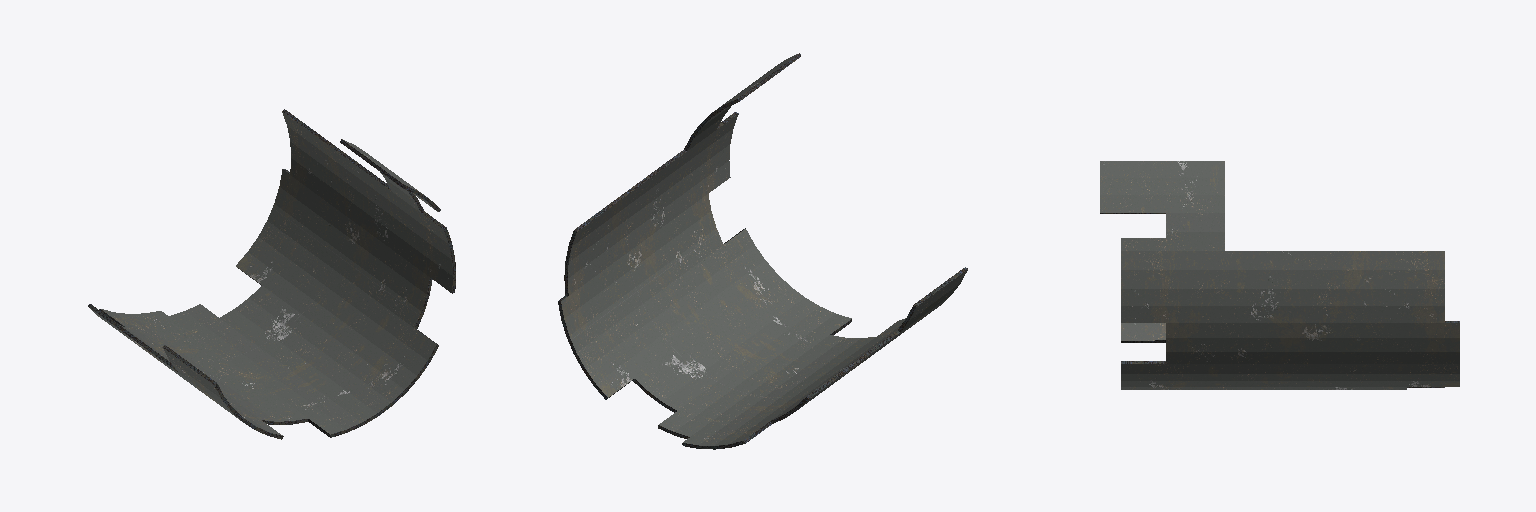
3 views of the same model, side by side, from view 1: azimuth 30°, elevation 25°; view 2: azimuth 150°, elevation 25°; view 3: azimuth 270°, elevation 25° (orthographic).
Parts seen in each view (by area): view 1: st_space_debris_014.mo_space_debris_05; view 2: st_space_debris_014.mo_space_debris_05; view 3: st_space_debris_014.mo_space_debris_05.
Part boxes in pixels (x1,y1,x2,y2): st_space_debris_014.mo_space_debris_05: (88, 109, 455, 439); st_space_debris_014.mo_space_debris_05: (558, 53, 967, 449); st_space_debris_014.mo_space_debris_05: (1100, 161, 1459, 389).
Size of the model in its own units: 16.29 by 15.8 by 21.02.
2 materials, 2 textured.